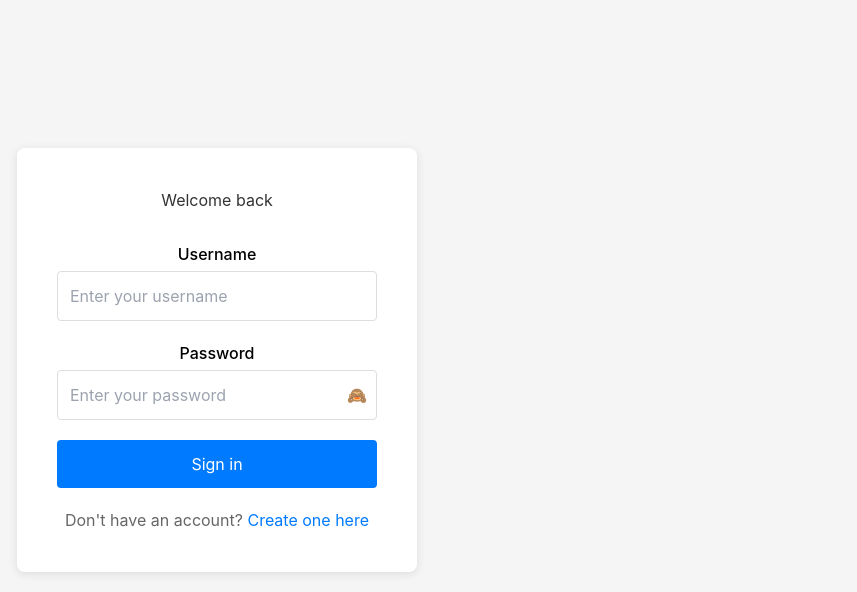
Authentication Tests › should handle invalid login
Fill form with invalid credentials
Type "invaliduser" into the field named "username".
click(217, 296); type("invaliduser")  # box [57,271,377,321]
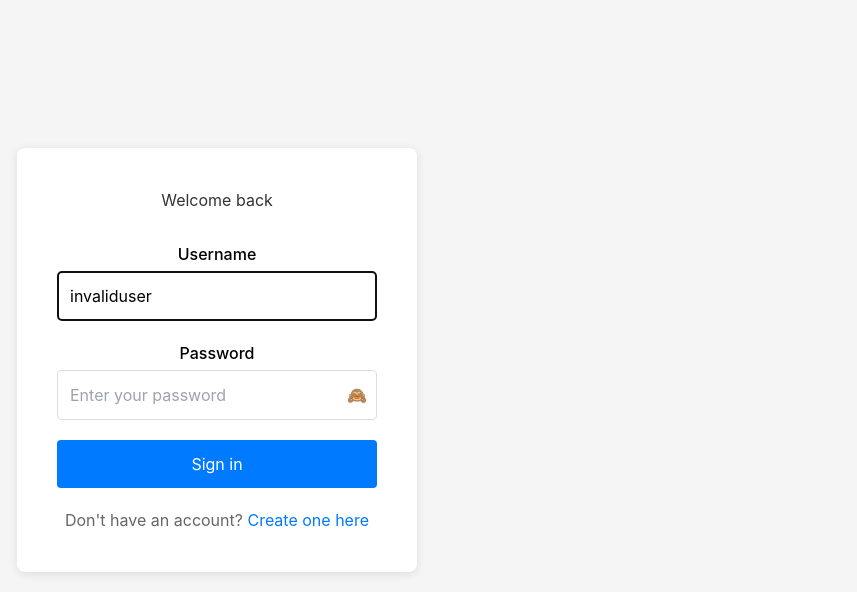
Type "wrongpassword" into the password field named "password".
click(217, 395); type("wrongpassword")  # box [57,370,377,420]
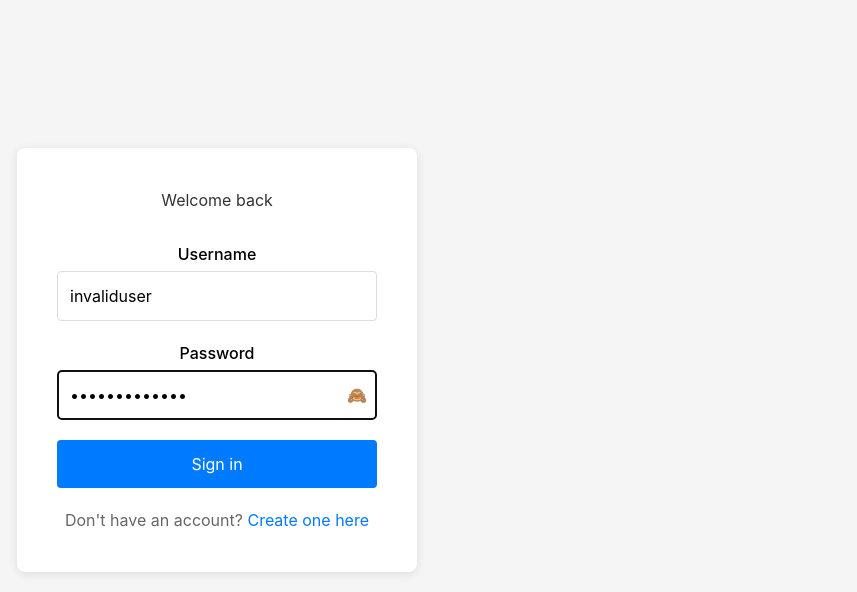
Click the submit button.
click(217, 464)  # box [57,440,377,488]
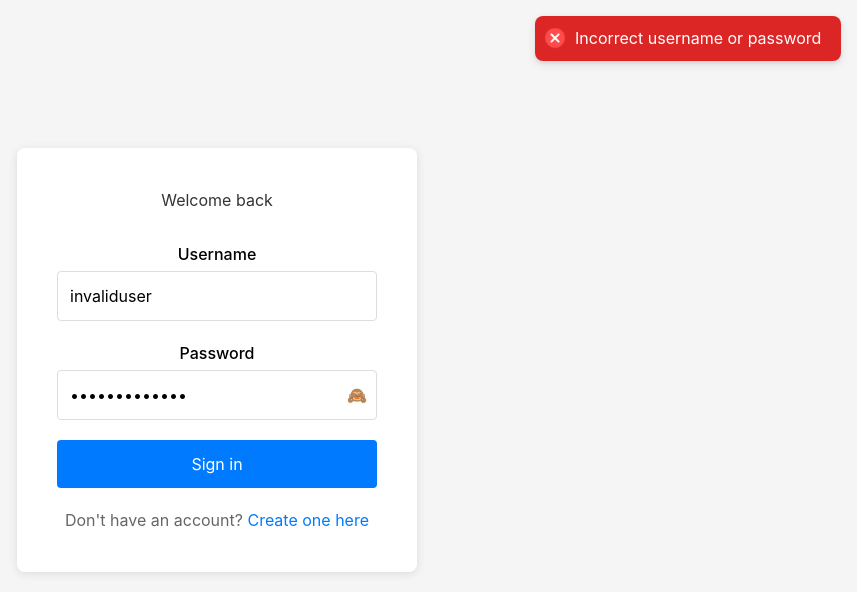
Result: the text "Incorrect username or password" is shown at [575,28,821,49]
